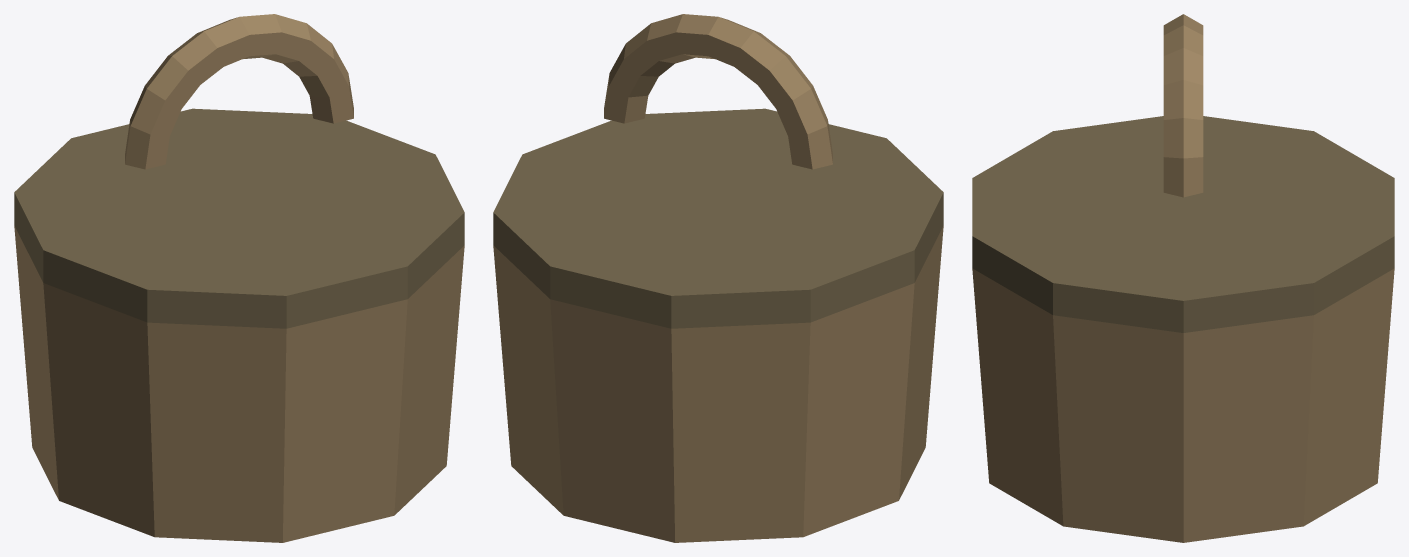
Rendered from qc_fishing_basket.obj.
3 views of the same model, side by side, from view 1: azimuth 30°, elevation 25°; view 2: azimuth 150°, elevation 25°; view 3: azimuth 270°, elevation 25° (orthographic).
Visible parts, largest first — view 1: qc_fishing_basket; view 2: qc_fishing_basket; view 3: qc_fishing_basket.
Boxes of the visible parts, x1,y1,x2,y2 form: qc_fishing_basket: (14, 14, 464, 542); qc_fishing_basket: (493, 14, 943, 542); qc_fishing_basket: (972, 14, 1394, 542).
Size of the model in its own units: 0.5 by 0.536 by 0.4755.
